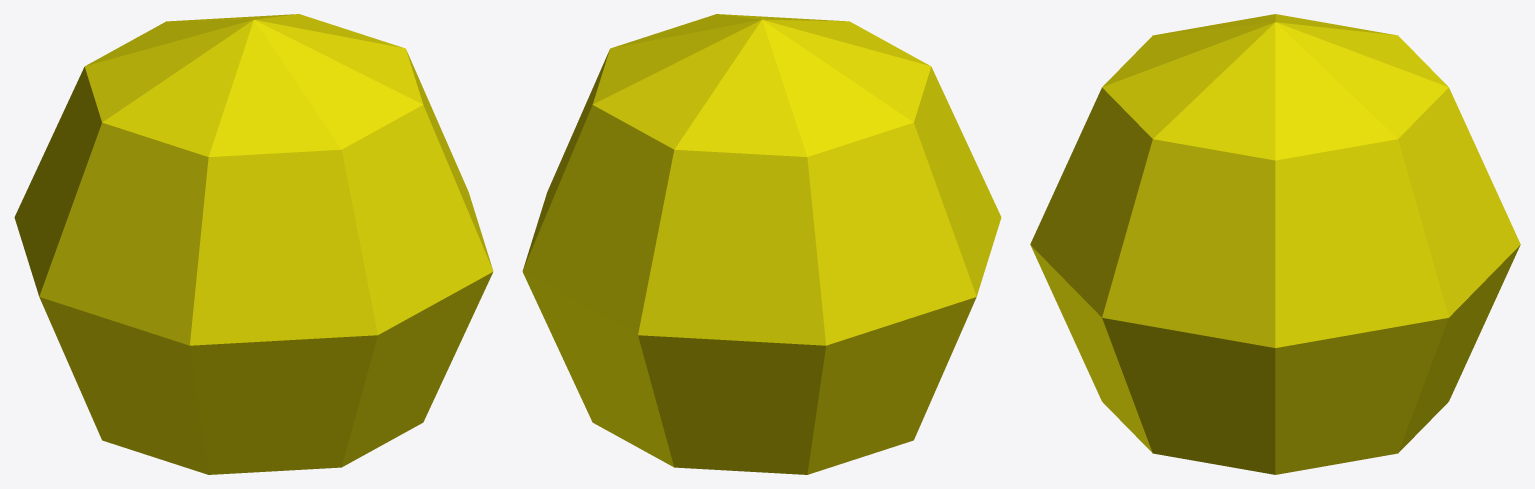
File: dummy_projectile.glb
3 views of the same model, side by side, from view 1: azimuth 30°, elevation 25°; view 2: azimuth 150°, elevation 25°; view 3: azimuth 270°, elevation 25° (orthographic).
Parts seen in each view (by area): view 1: Sphere; view 2: Sphere; view 3: Sphere.
Boxes of the visible parts, box(x1,y1,x2,y2) form: Sphere: box(14, 14, 493, 474); Sphere: box(522, 14, 1001, 474); Sphere: box(1030, 14, 1520, 474).
Bounding box in the file's own units: 0.1837 × 0.1837 × 0.1837.
